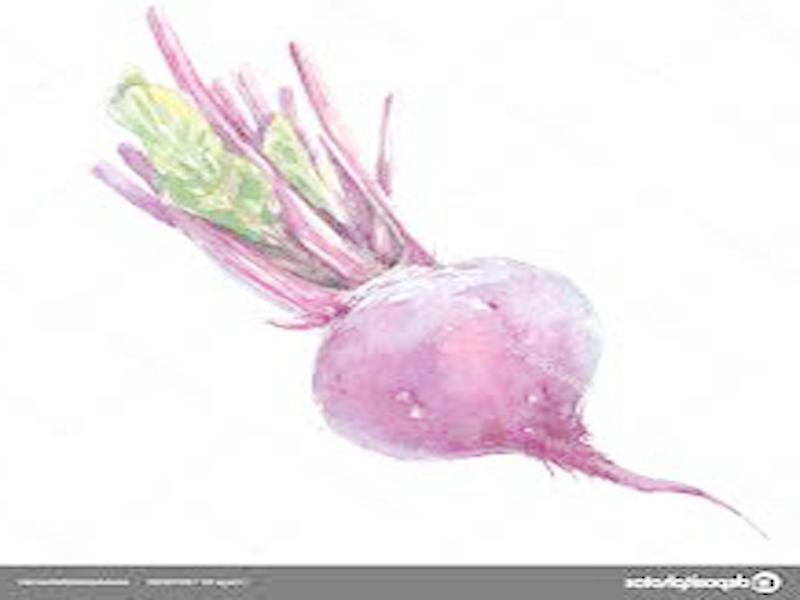Beet: (91, 5, 766, 538)
